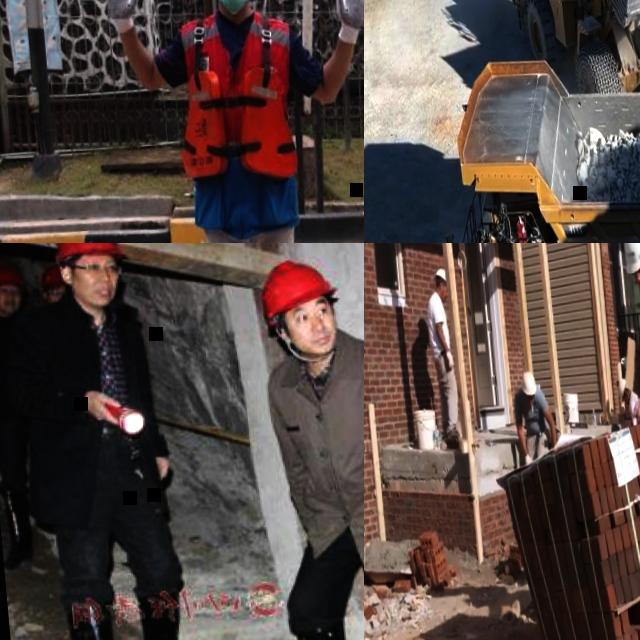Hardhat: (258, 251, 338, 322), (48, 243, 123, 266), (0, 259, 25, 292), (620, 243, 640, 274), (39, 266, 64, 290), (520, 367, 536, 393), (614, 376, 628, 397), (435, 264, 446, 281)
Mask: (209, 0, 257, 12)
NO-Mask: (286, 318, 336, 352), (70, 275, 116, 307), (0, 294, 21, 314), (526, 398, 534, 409), (440, 287, 447, 299)
NO-Safety Vest: (266, 345, 364, 552), (31, 299, 150, 462), (0, 317, 26, 415), (516, 389, 546, 439), (425, 293, 448, 354), (625, 388, 639, 423)
Person: (21, 243, 189, 640), (91, 0, 364, 243), (251, 243, 364, 640), (0, 253, 57, 560), (617, 243, 640, 596), (424, 267, 463, 446), (508, 365, 558, 467), (35, 263, 69, 310), (615, 375, 639, 421)
Safety Vest: (170, 6, 304, 183)
vehicle: (427, 30, 640, 243), (500, 0, 640, 101)
